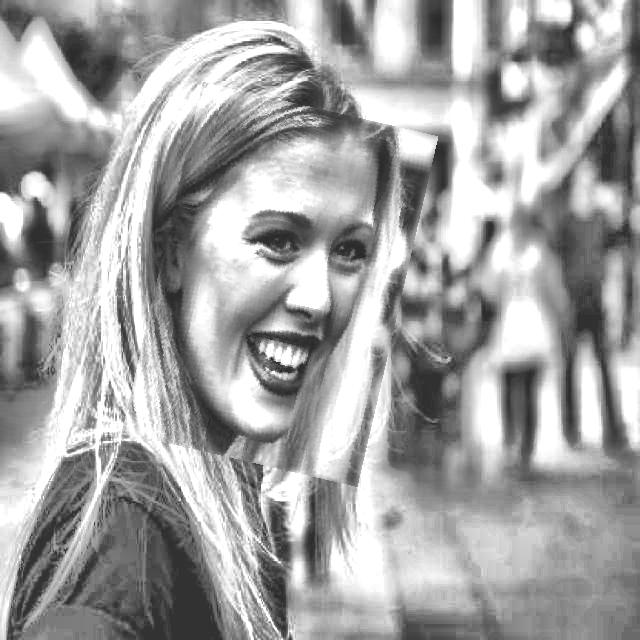happy: (141, 94, 419, 476)
